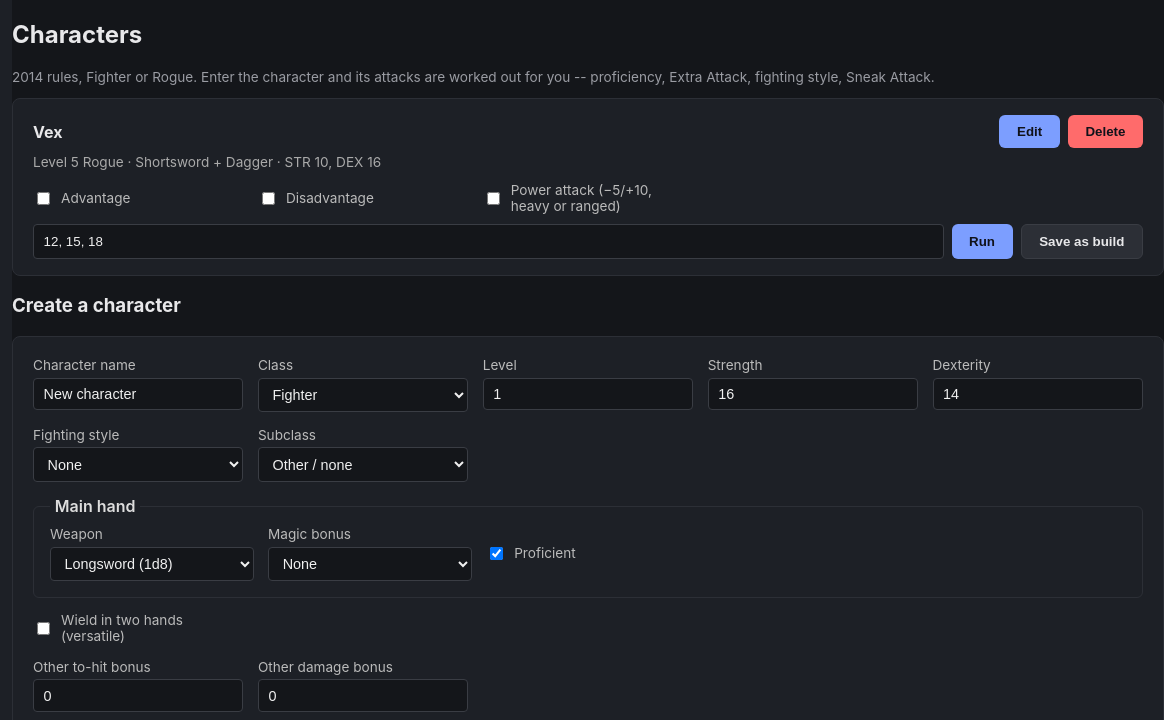
Test: CharactersPanel › runs a character with this round's toggles and shows its derived attacks
Check: the text "Vex" is shown, box [33,122,62,142]
Click the checkbox labelled "Advantage" at (44, 198), box [37,192,50,205]
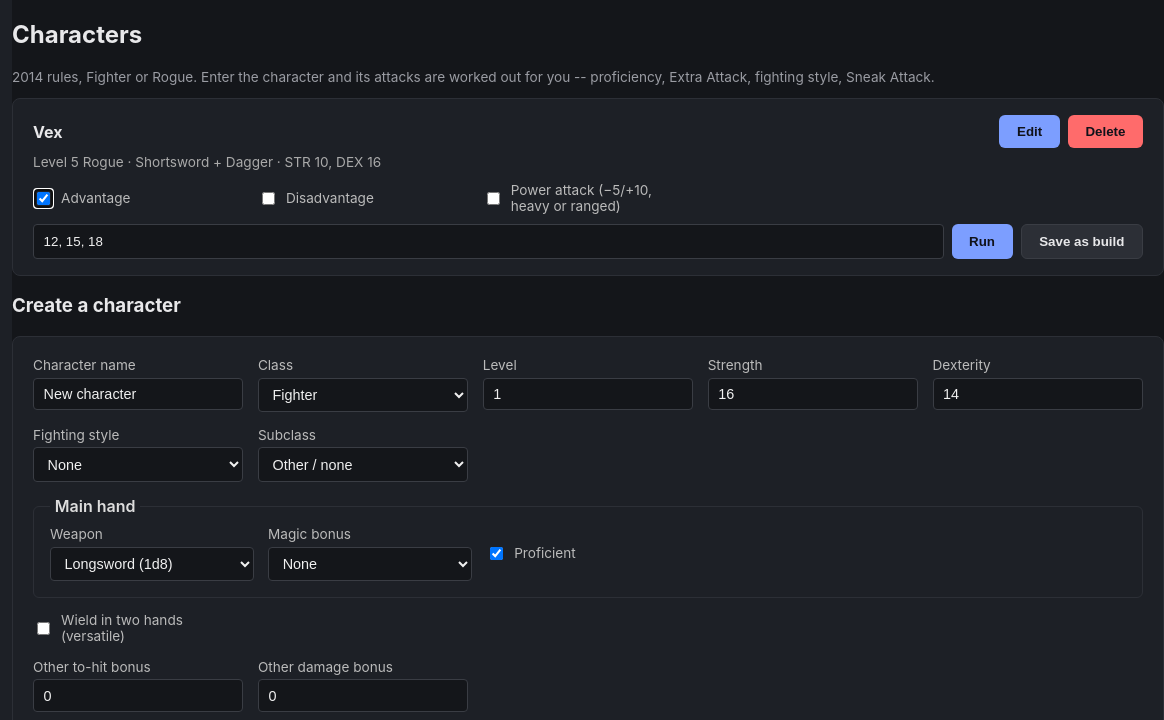
Click the button "Run" at (982, 241), box [952,224,1013,259]
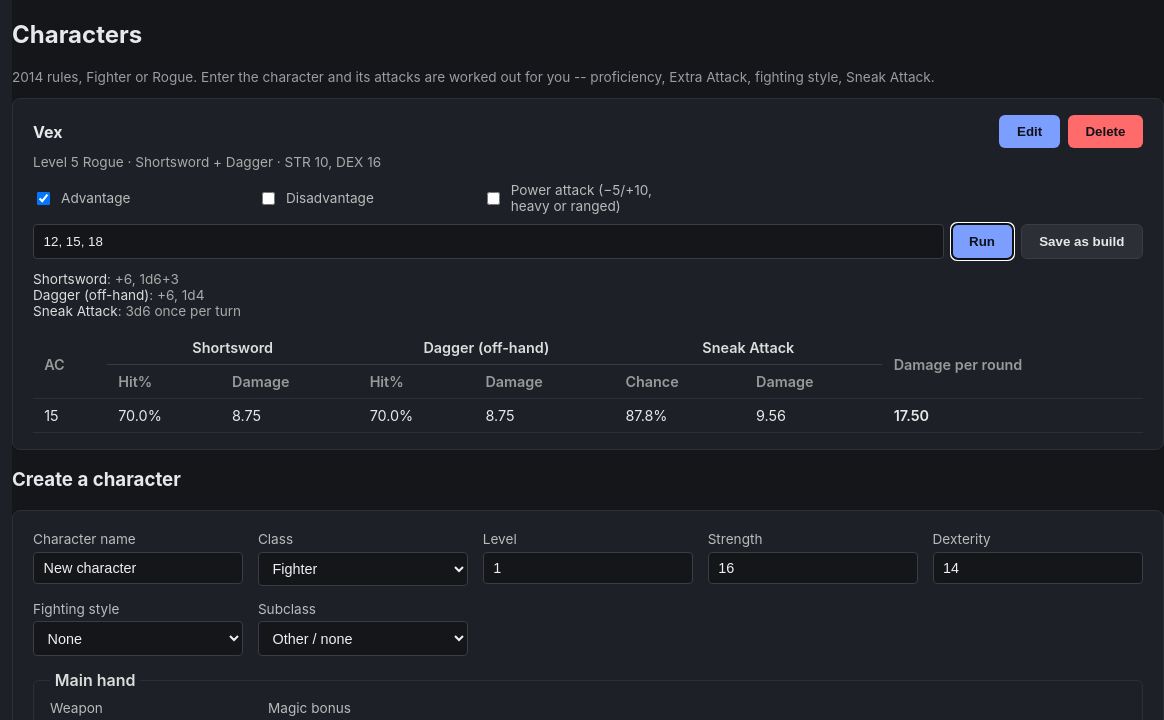
Check: the list named "Derived attacks" shows "Shortsword: +6, 1d6+3", box [33,271,241,319]
Check: the list named "Derived attacks" shows "Dagger (off-hand): +6, 1d4", box [33,271,241,319]
Check: the list named "Derived attacks" shows "Sneak Attack: 3d6 once per turn", box [33,271,241,319]
